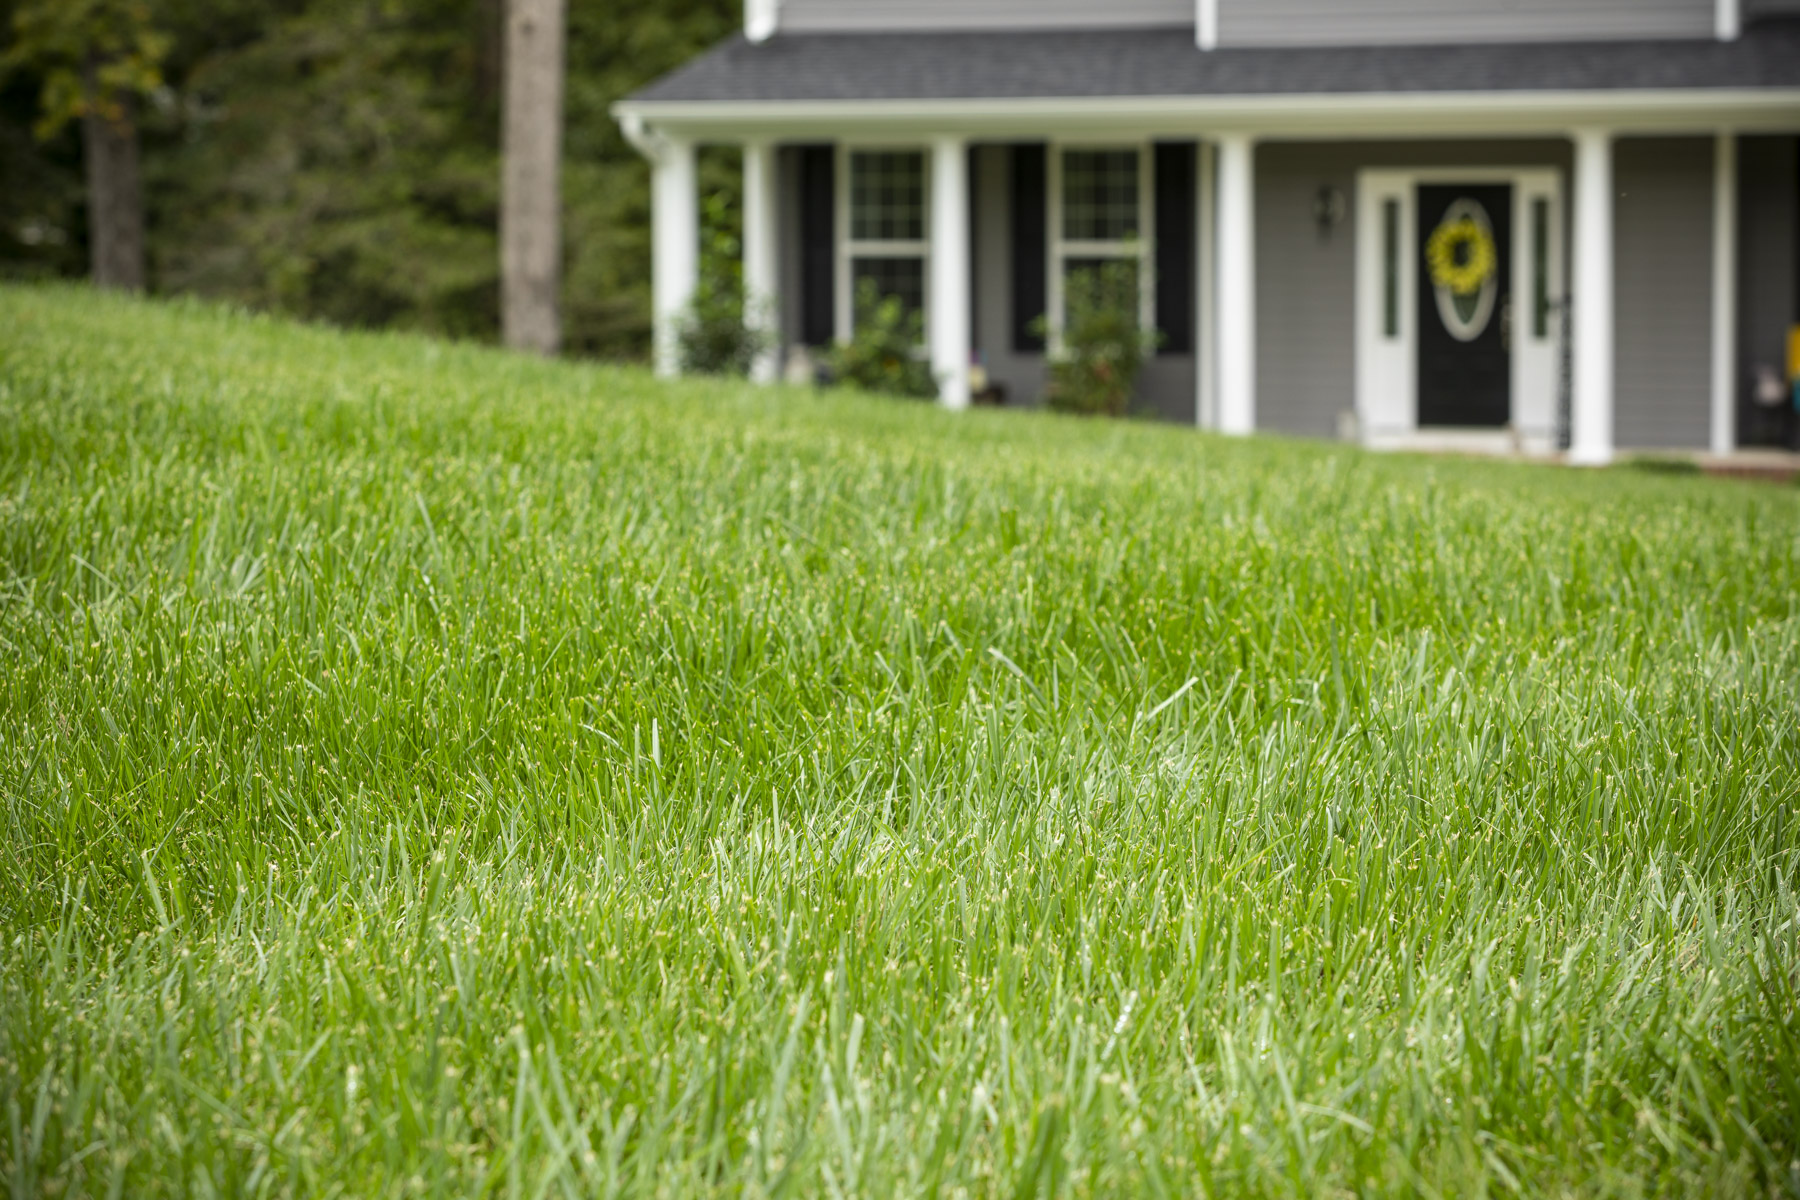grass: (1, 518, 1800, 1200)
